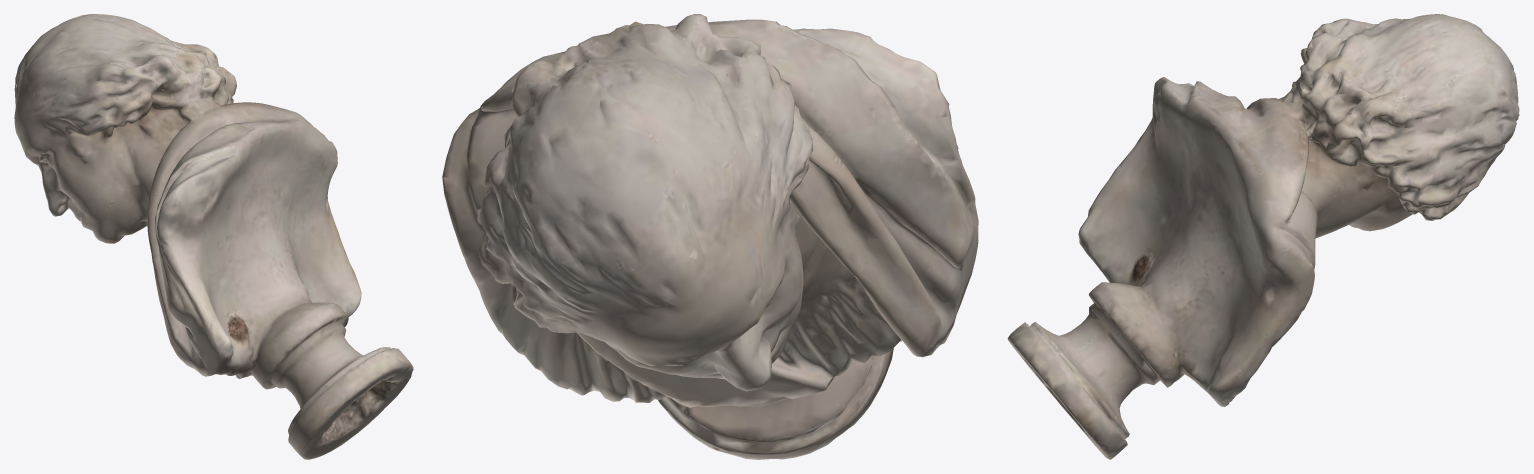
3 renders of one model, left to right at view 1: azimuth 30°, elevation 25°; view 2: azimuth 150°, elevation 25°; view 3: azimuth 270°, elevation 25°, orthographic. The views are drawn at different scales.
Bounding box in the file's own units: 305 × 412 × 496.
Materials: 1 (1 with a texture image).
